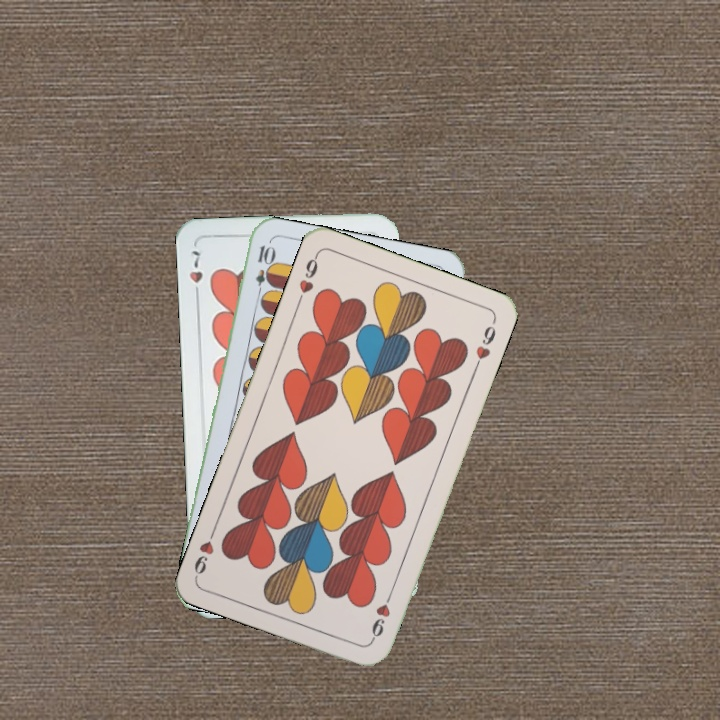E10: (251, 241, 275, 300)
H7: (186, 246, 205, 302)
H9: (366, 588, 396, 644), (293, 250, 321, 307)
